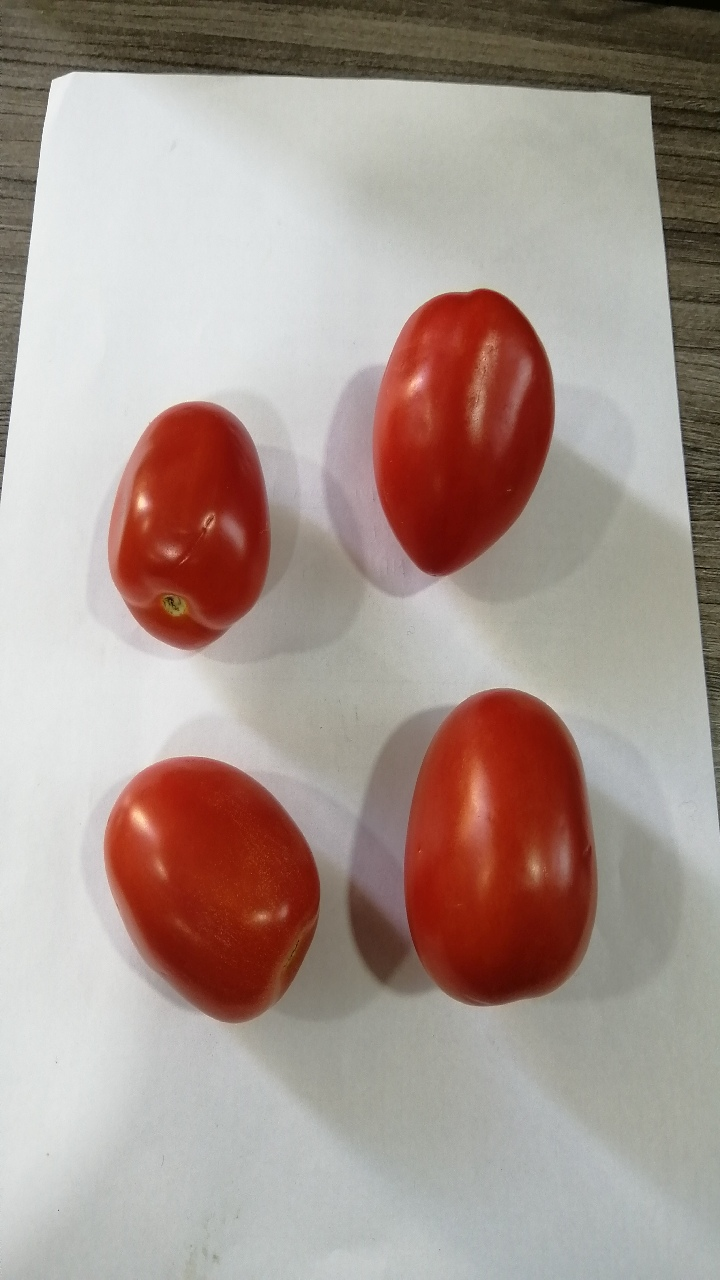tomateRojo: (371, 668, 618, 1035), (86, 746, 344, 1042), (354, 272, 575, 592), (77, 379, 292, 665)
